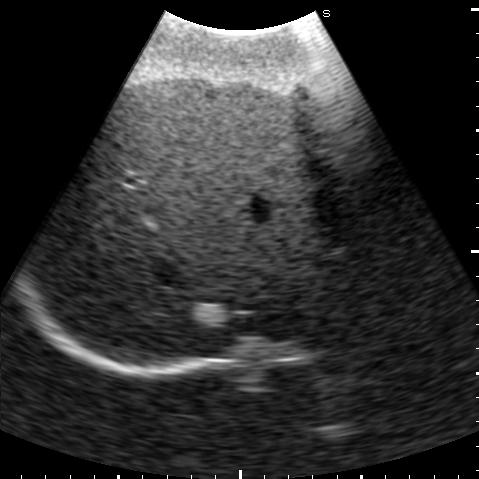S5: (98, 78, 322, 190)
S7: (30, 159, 148, 305)
S8: (96, 176, 360, 365)
Tumor: (191, 302, 230, 327)
